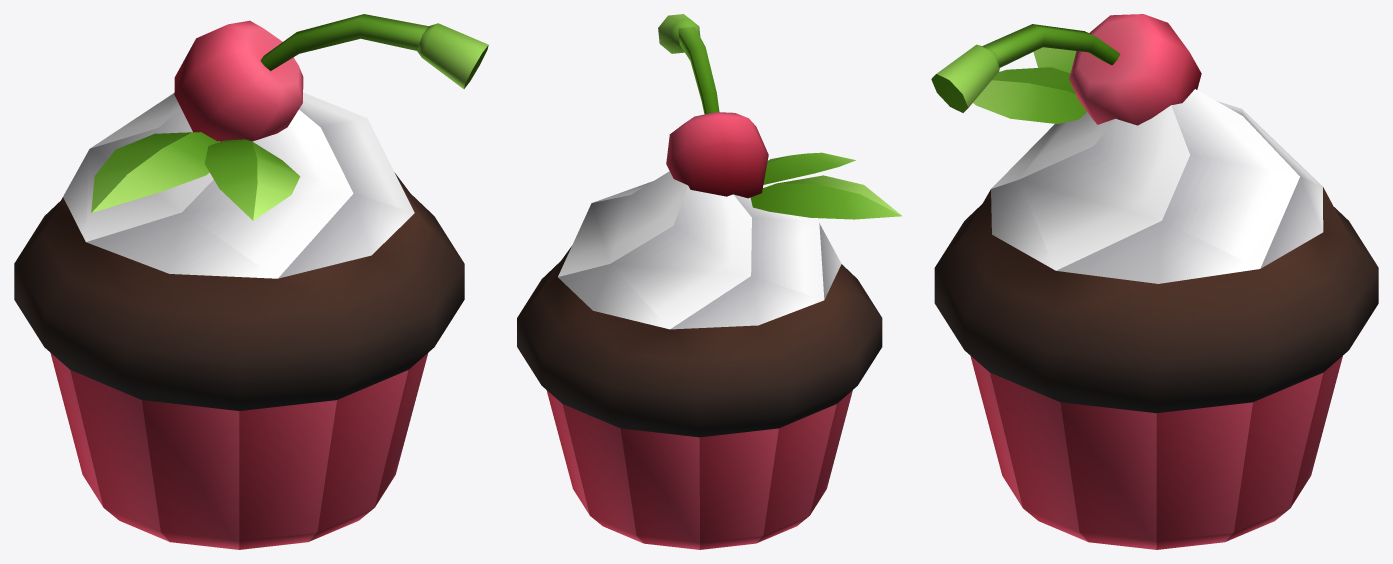
Rendered from m_Cupcake15.fbx.
The picture shows the model from 3 angles, left to right: view 1: azimuth 30°, elevation 25°; view 2: azimuth 150°, elevation 25°; view 3: azimuth 270°, elevation 25°; orthographic projection. The views are drawn at different scales.
Visible parts, largest first — view 1: m_Cupcake15; view 2: m_Cupcake15; view 3: m_Cupcake15.
Part boxes in pixels (x1=…): m_Cupcake15: x1=14, y1=14, x2=488, y2=549; m_Cupcake15: x1=517, y1=14, x2=902, y2=549; m_Cupcake15: x1=931, y1=14, x2=1378, y2=549.
Size of the model in its own units: 11.51 by 14.07 by 11.47.
